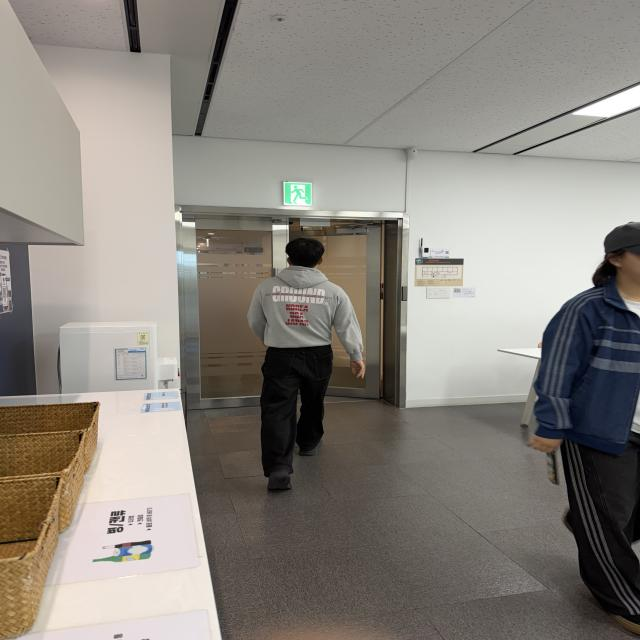rear_door: (176, 206, 384, 409)
